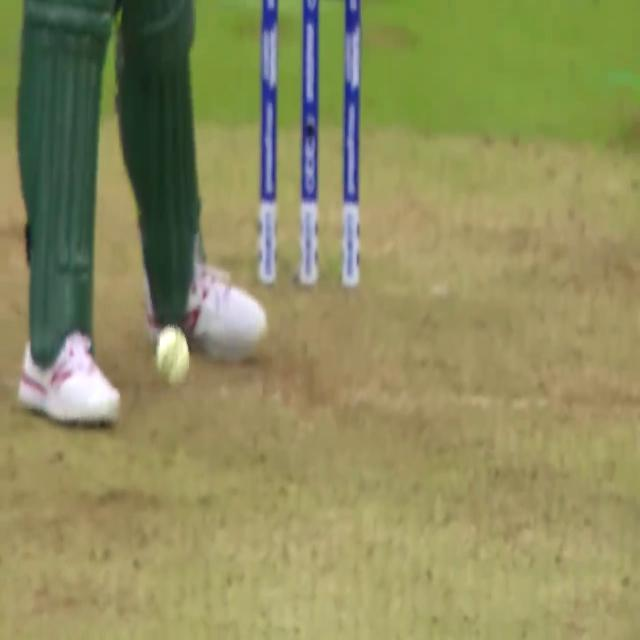ball: (150, 322, 192, 394)
